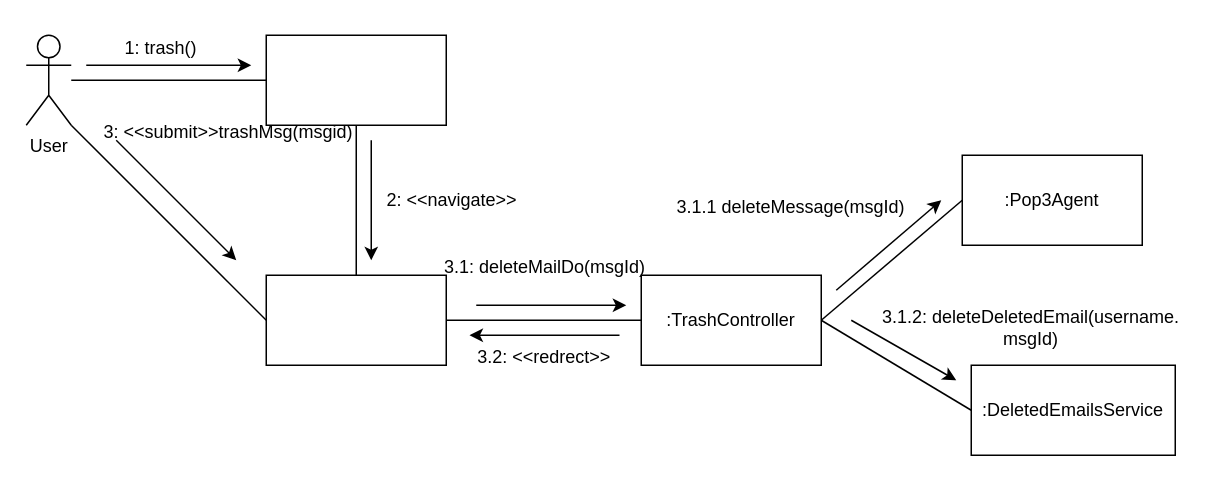
The diagram is 1206 pixels wide and 482 high, and some of its shapes have lost their labels. The centre of each missing label's shape, as x and y in pixels:
":main_menu" goes at (x=355, y=79).
":trash_menu" goes at (x=355, y=319).
